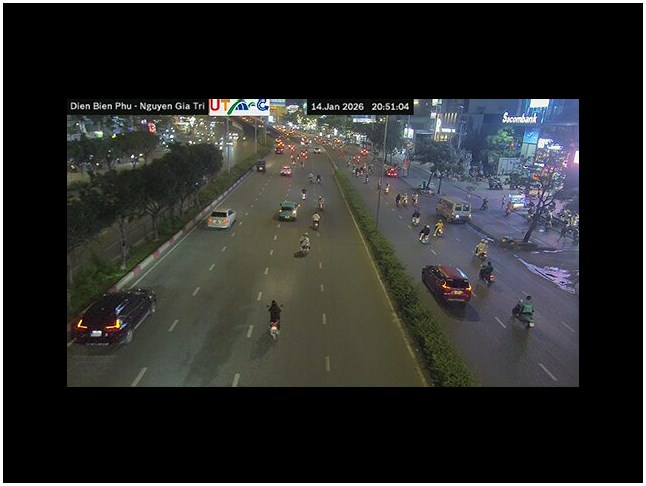car: (69, 289, 156, 347), (422, 263, 473, 303), (438, 197, 470, 220), (207, 208, 236, 229), (276, 200, 299, 222), (254, 158, 265, 170), (282, 165, 292, 176)
motorbike: (261, 299, 288, 339), (511, 294, 538, 331), (472, 236, 489, 259), (480, 262, 496, 286), (298, 230, 311, 253), (419, 224, 432, 245), (394, 190, 410, 207), (431, 221, 446, 237), (410, 210, 422, 228), (307, 171, 323, 183), (315, 194, 326, 210), (312, 210, 321, 228), (299, 187, 307, 200)
